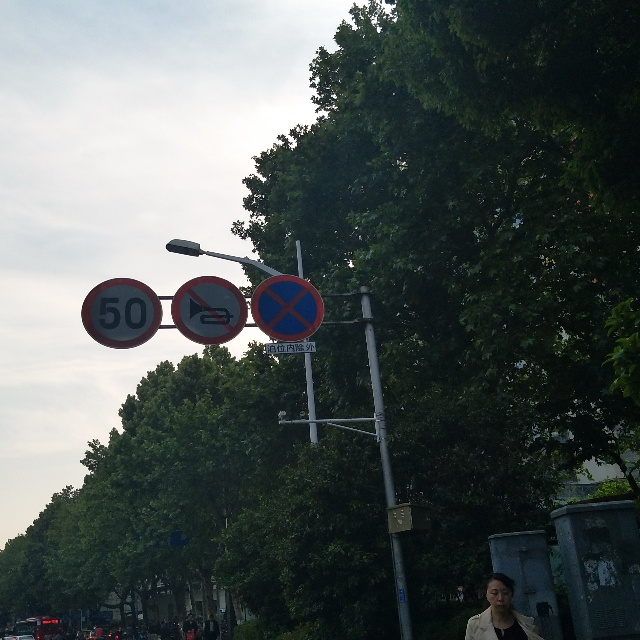nohonk: (171, 277, 244, 342)
stop: (259, 279, 318, 335)
